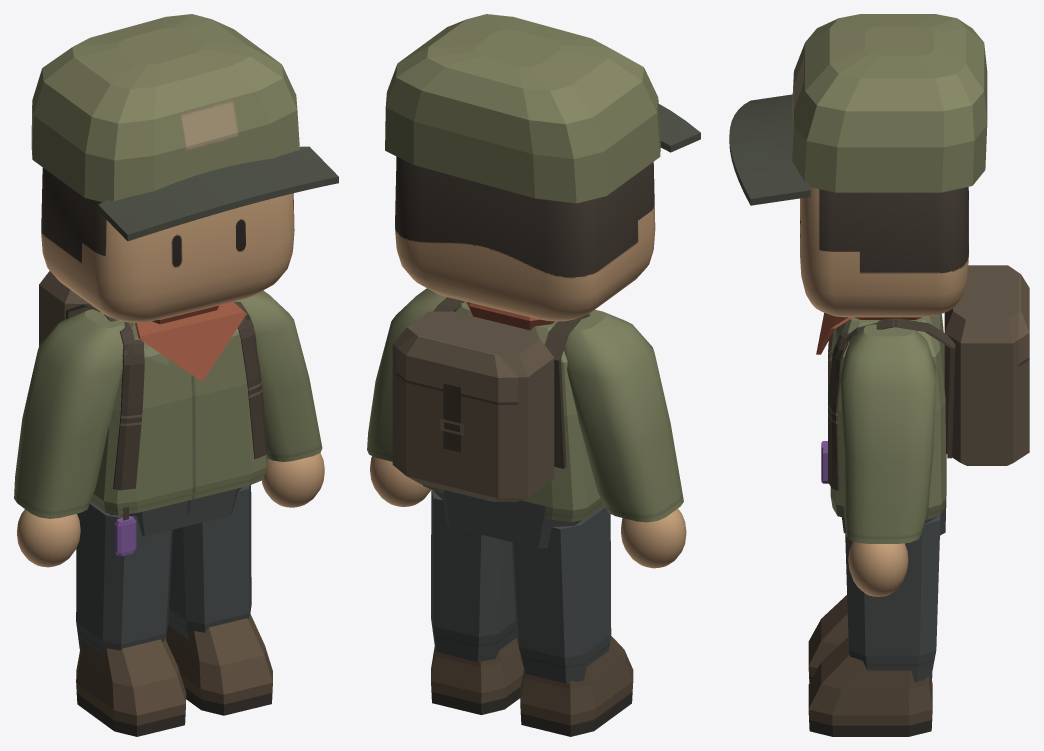
Rendered from SimpleHero_Stage2.glb.
3 renders of one model, left to right at view 1: azimuth 30°, elevation 25°; view 2: azimuth 150°, elevation 25°; view 3: azimuth 270°, elevation 25°, orthographic. The views are drawn at different scales.
Visible parts, largest first — view 1: Study_Cap, Study_Head, Study_Torso, Study_Sleeve_-1, Study_Leg_-1, Study_CapBrim, Study_Leg_1, Study_Boot_-1, Study_Sleeve_1, Gear_Backpack, Study_Boot_1, Gear_Scarf (+4 smaller); view 2: Study_Cap, Study_Head, Gear_Backpack, Study_Sleeve_-1, Study_Leg_-1, Study_Leg_1, Study_Boot_-1, Study_Boot_1, Study_Torso, Study_Hips, Study_Sleeve_1, Study_Mitten_-1 (+3 smaller); view 3: Study_Cap, Study_Head, Study_Sleeve_1, Gear_Backpack, Study_Leg_1, Study_Boot_1, Study_CapBrim, Study_Torso, Study_Mitten_1, Study_Boot_-1, Gear_Scarf.
Part boxes in pixels (left/top/right/bottom): Study_Cap: left=31, top=14, right=299, bottom=202; Study_Head: left=41, top=167, right=294, bottom=322; Study_Torso: left=90, top=322, right=267, bottom=515; Study_Sleeve_-1: left=14, top=309, right=124, bottom=518; Study_Leg_-1: left=76, top=502, right=172, bottom=654; Study_CapBrim: left=98, top=146, right=338, bottom=241; Study_Leg_1: left=168, top=485, right=251, bottom=639; Study_Boot_-1: left=76, top=638, right=186, bottom=736; Study_Sleeve_1: left=233, top=290, right=322, bottom=461; Gear_Backpack: left=39, top=271, right=267, bottom=490; Study_Boot_1: left=165, top=613, right=272, bottom=715; Gear_Scarf: left=135, top=301, right=246, bottom=381; Study_Cap: left=385, top=14, right=660, bottom=203; Study_Head: left=395, top=156, right=655, bottom=321; Gear_Backpack: left=392, top=297, right=590, bottom=501; Study_Sleeve_-1: left=564, top=309, right=683, bottom=522; Study_Leg_-1: left=511, top=505, right=611, bottom=683; Study_Leg_1: left=431, top=489, right=516, bottom=661; Study_Boot_-1: left=520, top=635, right=633, bottom=736; Study_Boot_1: left=431, top=638, right=523, bottom=714; Study_Torso: left=423, top=301, right=604, bottom=522; Study_Hips: left=433, top=490, right=581, bottom=548; Study_Sleeve_1: left=367, top=288, right=446, bottom=461; Study_Mitten_-1: left=621, top=508, right=686, bottom=568; Study_Cap: left=792, top=14, right=987, bottom=192; Study_Head: left=800, top=187, right=968, bottom=317; Study_Sleeve_1: left=840, top=324, right=936, bottom=543; Gear_Backpack: left=828, top=265, right=1029, bottom=490; Study_Leg_1: left=844, top=516, right=940, bottom=682; Study_Boot_1: left=808, top=637, right=932, bottom=736; Study_CapBrim: left=729, top=94, right=810, bottom=205; Study_Torso: left=830, top=314, right=946, bottom=519; Study_Mitten_1: left=848, top=541, right=908, bottom=596; Study_Boot_-1: left=808, top=595, right=932, bottom=682; Gear_Scarf: left=816, top=313, right=931, bottom=354.
Bounding box in the file's own units: 0.874 × 1.78 × 0.7375.
2 materials, 2 textured.
